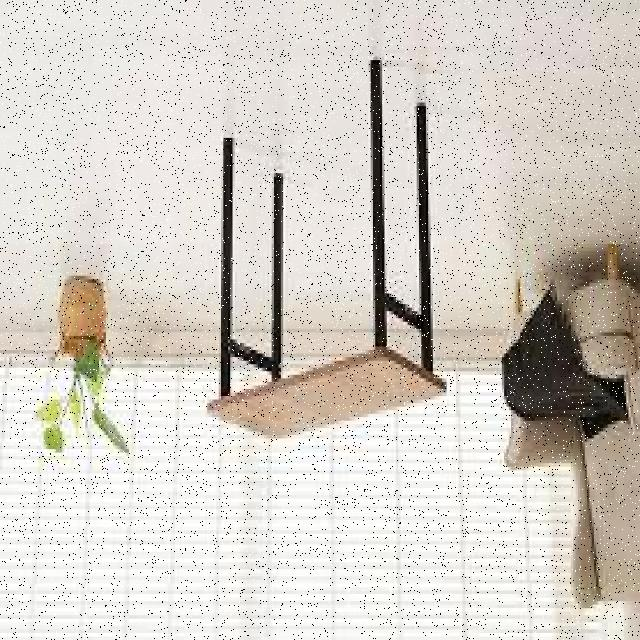mobile-phone: (203, 56, 450, 448)
